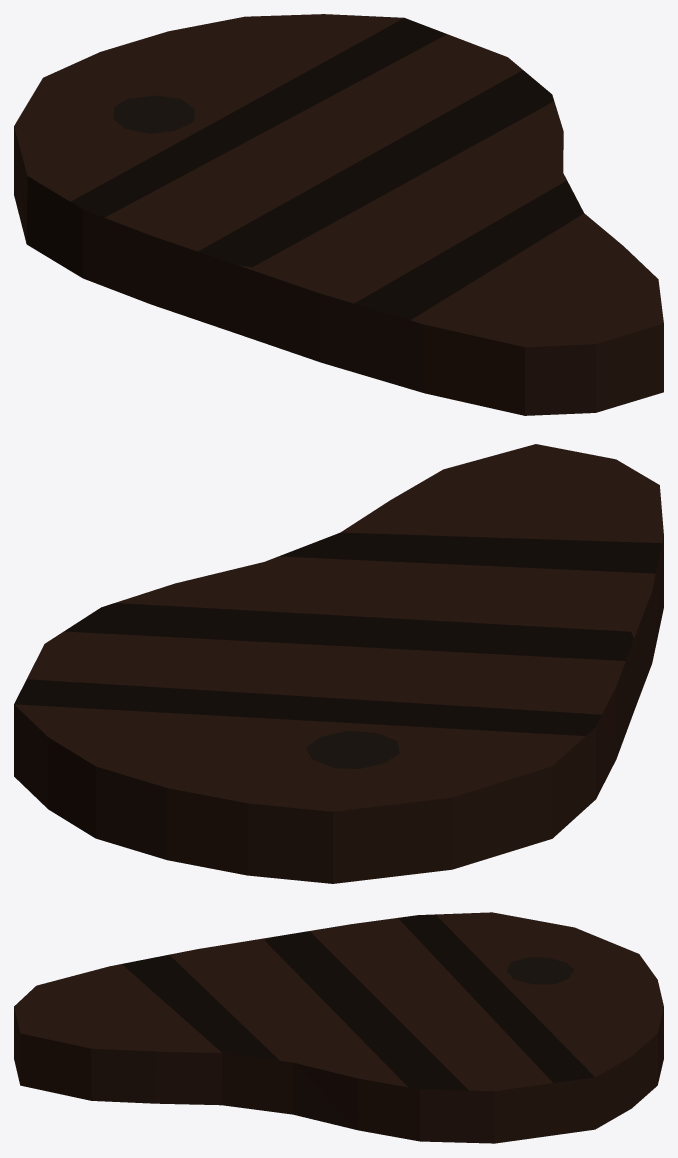
File: SteakCooked.fbx
3 views of the same model, one above another, from view 1: azimuth 30°, elevation 25°; view 2: azimuth 150°, elevation 25°; view 3: azimuth 270°, elevation 25° (orthographic). The views are drawn at different scales.
Parts seen in each view (by area): view 1: Steak_cooked; view 2: Steak_cooked; view 3: Steak_cooked.
Part boxes in pixels (box(x1,y1,x2,y2)): Steak_cooked: box(14, 14, 663, 415); Steak_cooked: box(14, 444, 663, 883); Steak_cooked: box(14, 912, 663, 1143).
Size of the model in its own units: 19.78 by 2.69 by 30.32.
